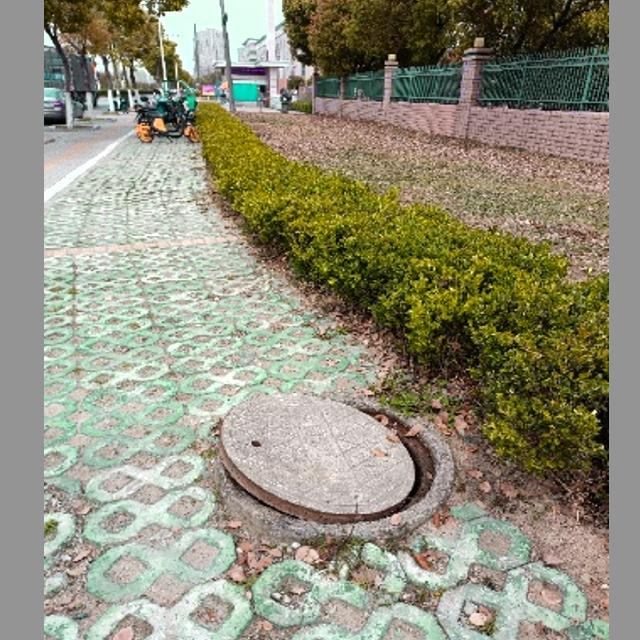uncovered: (210, 388, 455, 542)
